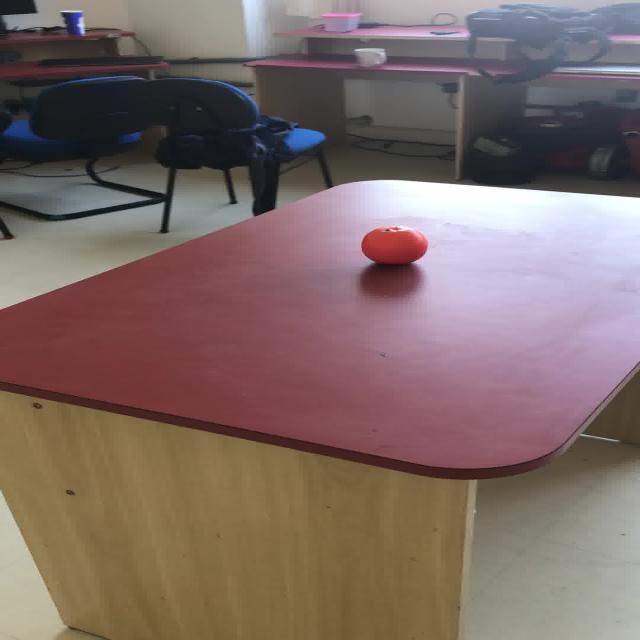orange: (360, 224, 427, 264)
